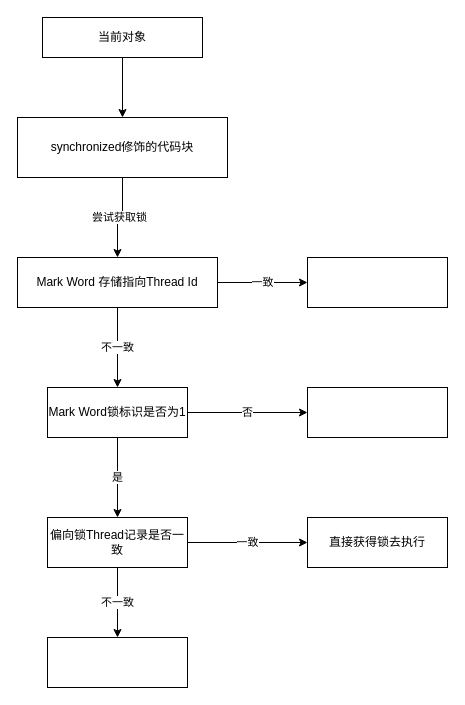
The diagram is 465 pixels wide and 705 high, and some of its shapes have lost their labels. The centre of each missing label's shape, as x and y in pixels:
已获得锁: the point at 377,282
根据Mark Word锁类型去竞争: the point at 377,412
锁升级为轻量级锁: the point at 117,662
